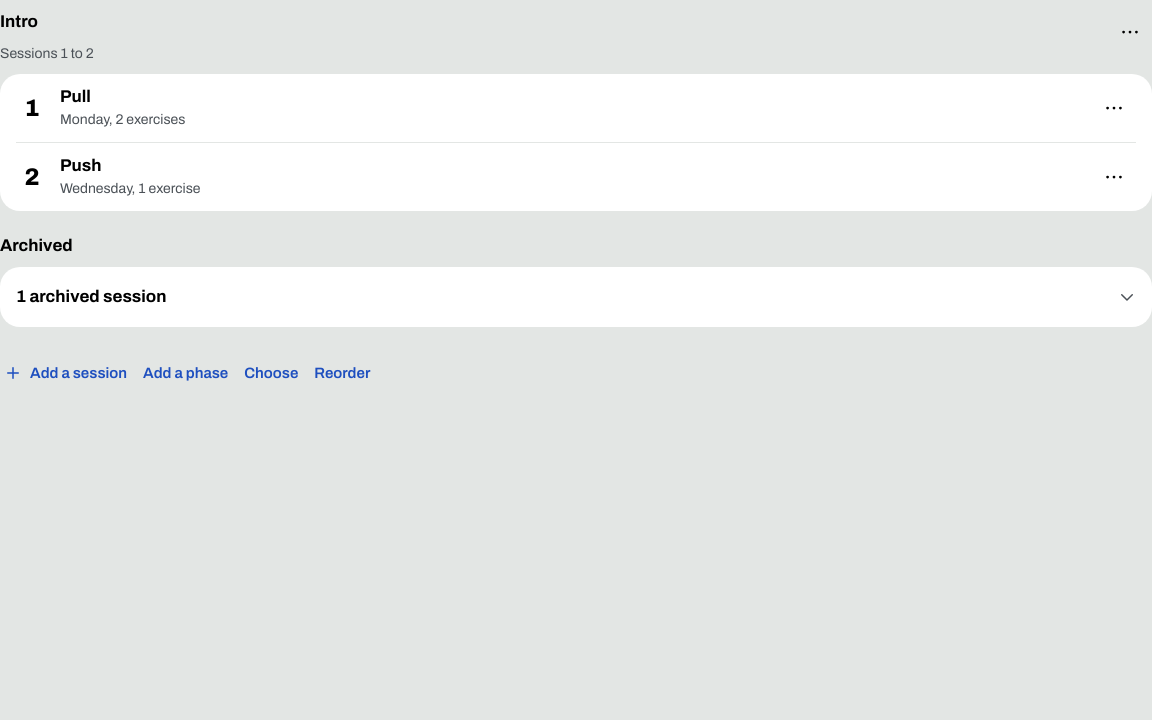
ProgramSheet › a single-phase block is the same shape › keeps copy-to-athlete reachable — block templating still matters
Click the button named "Phase options". click: click(1130, 32)
box: x1=1108 y1=10 x2=1151 y2=54
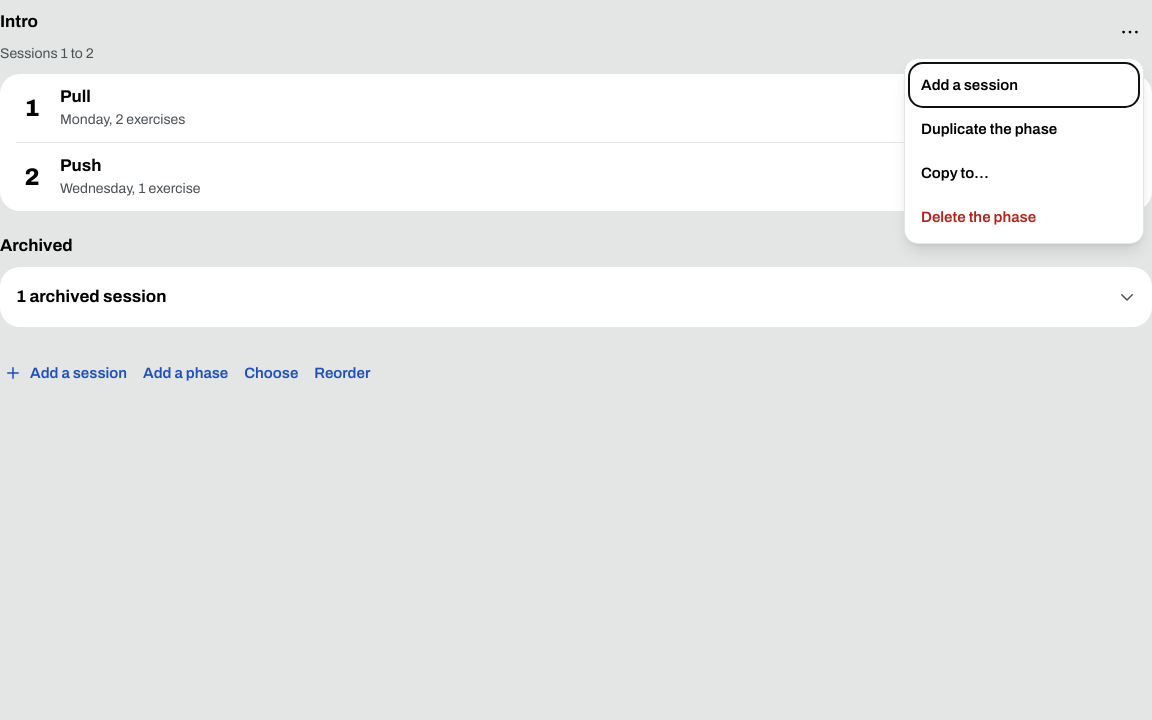
Click the button "Copy to…". click: click(1024, 173)
box: x1=909 y1=151 x2=1139 y2=195
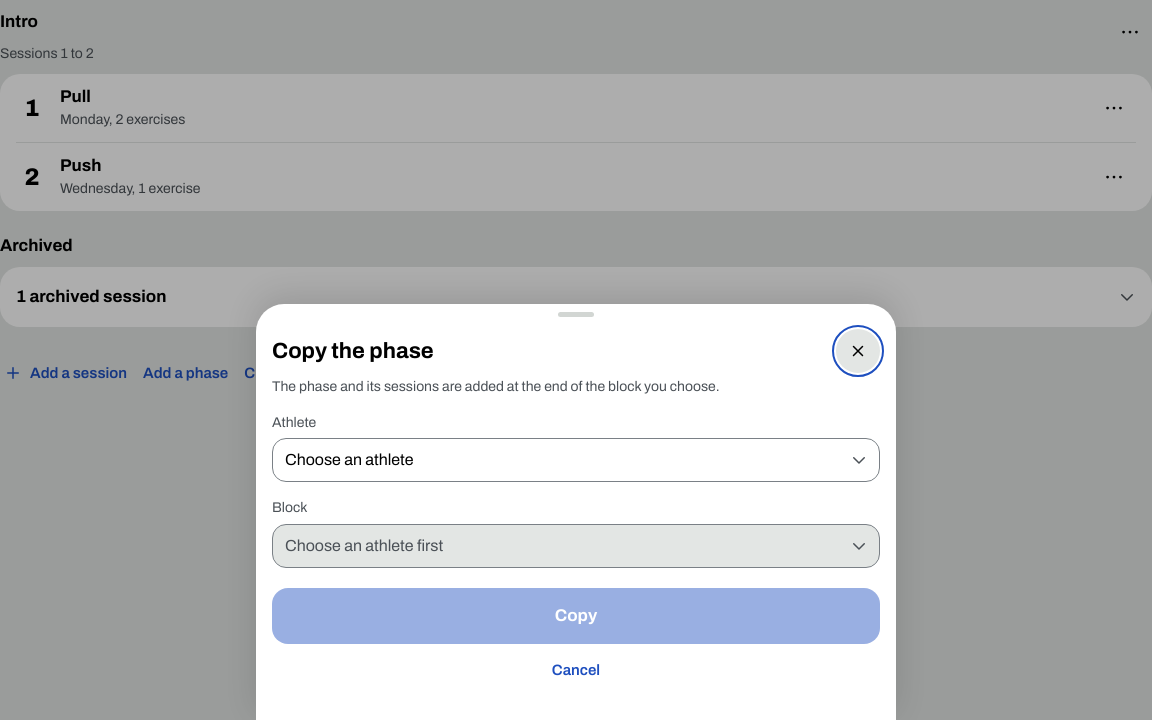
Select "Alice, this athlete" in the dropdown labelled "Athlete". click: (576, 460)
box: x1=272 y1=438 x2=880 y2=482
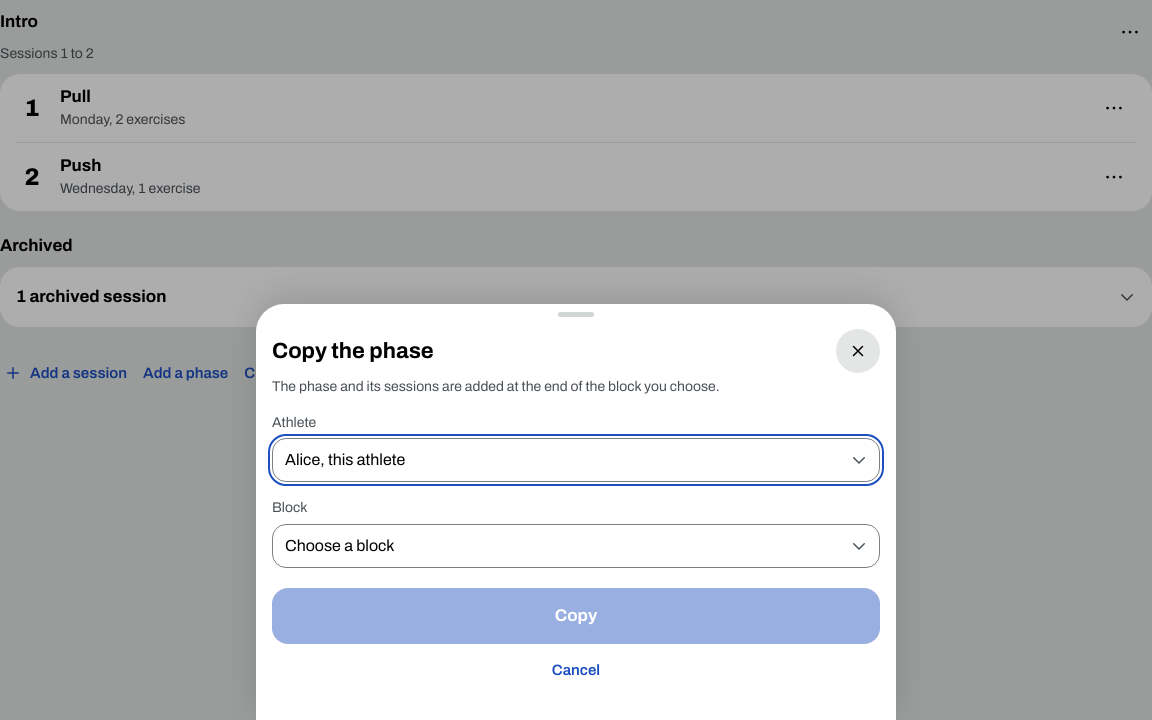
Select "Base block, in progress" in the dropdown labelled "Block". click: (576, 546)
box: x1=272 y1=524 x2=880 y2=568
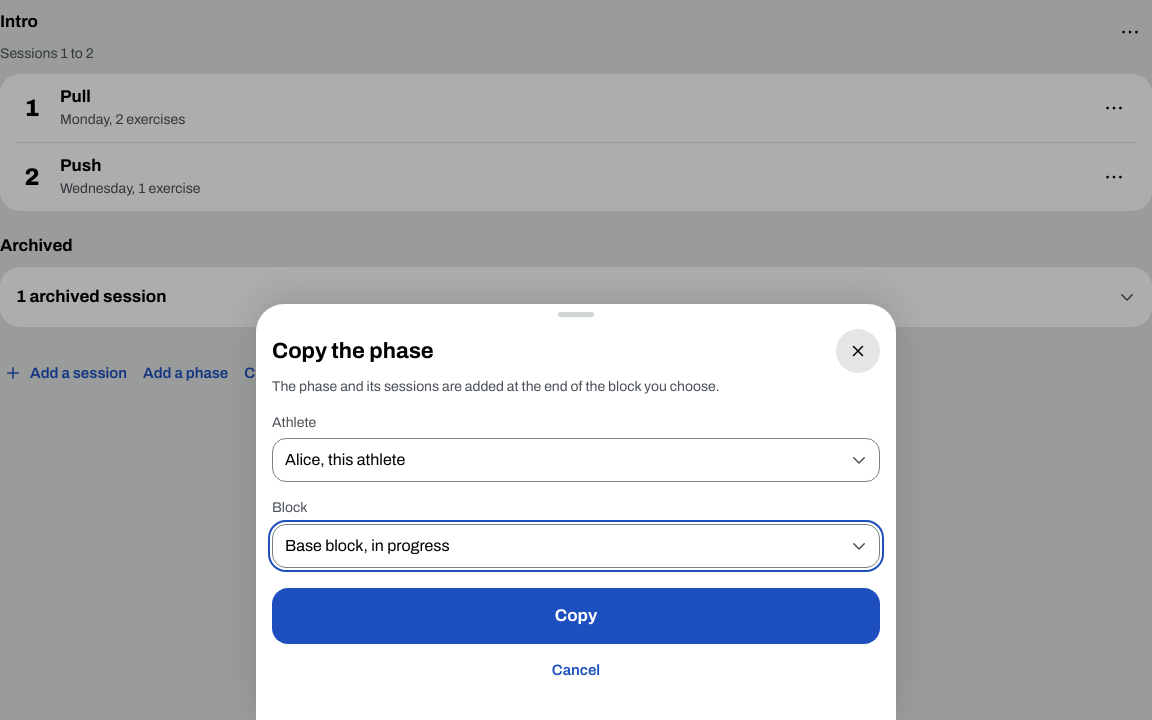
Click the button "Copy". click: click(576, 616)
box: x1=272 y1=588 x2=880 y2=644
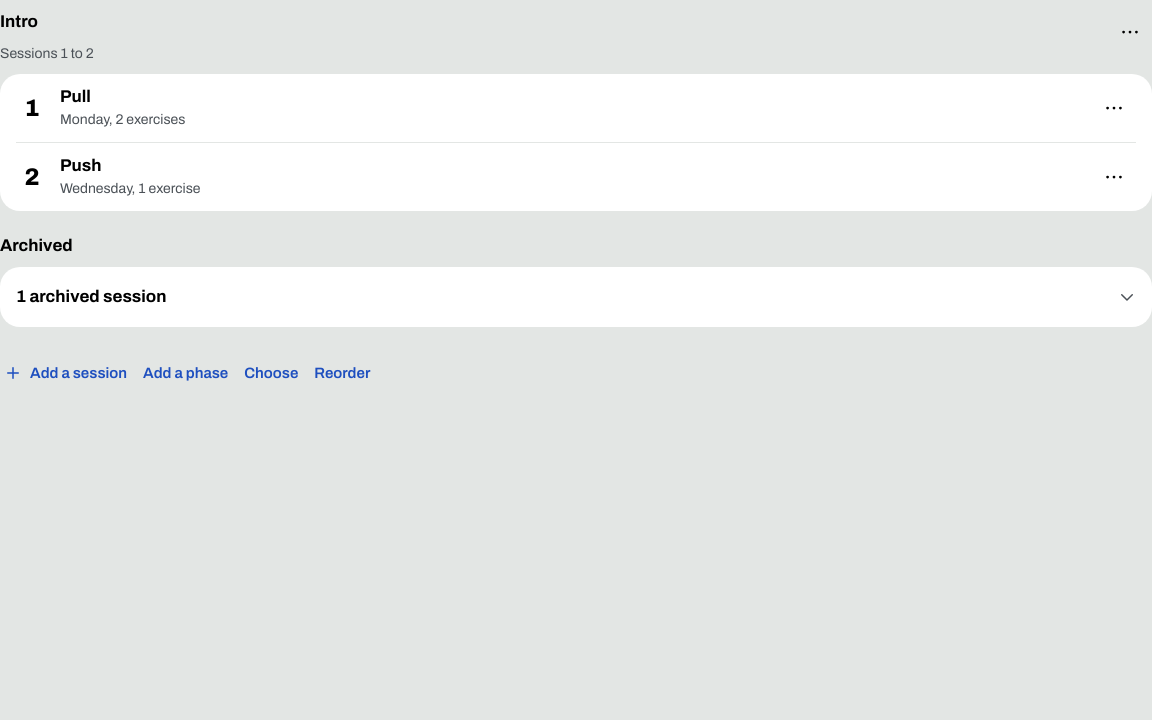
Expected: the dialog is gone
